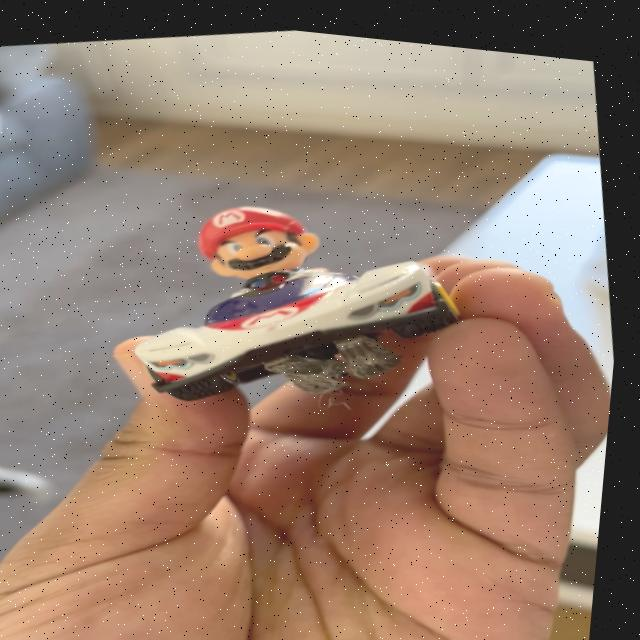mario: (67, 146, 505, 449)
